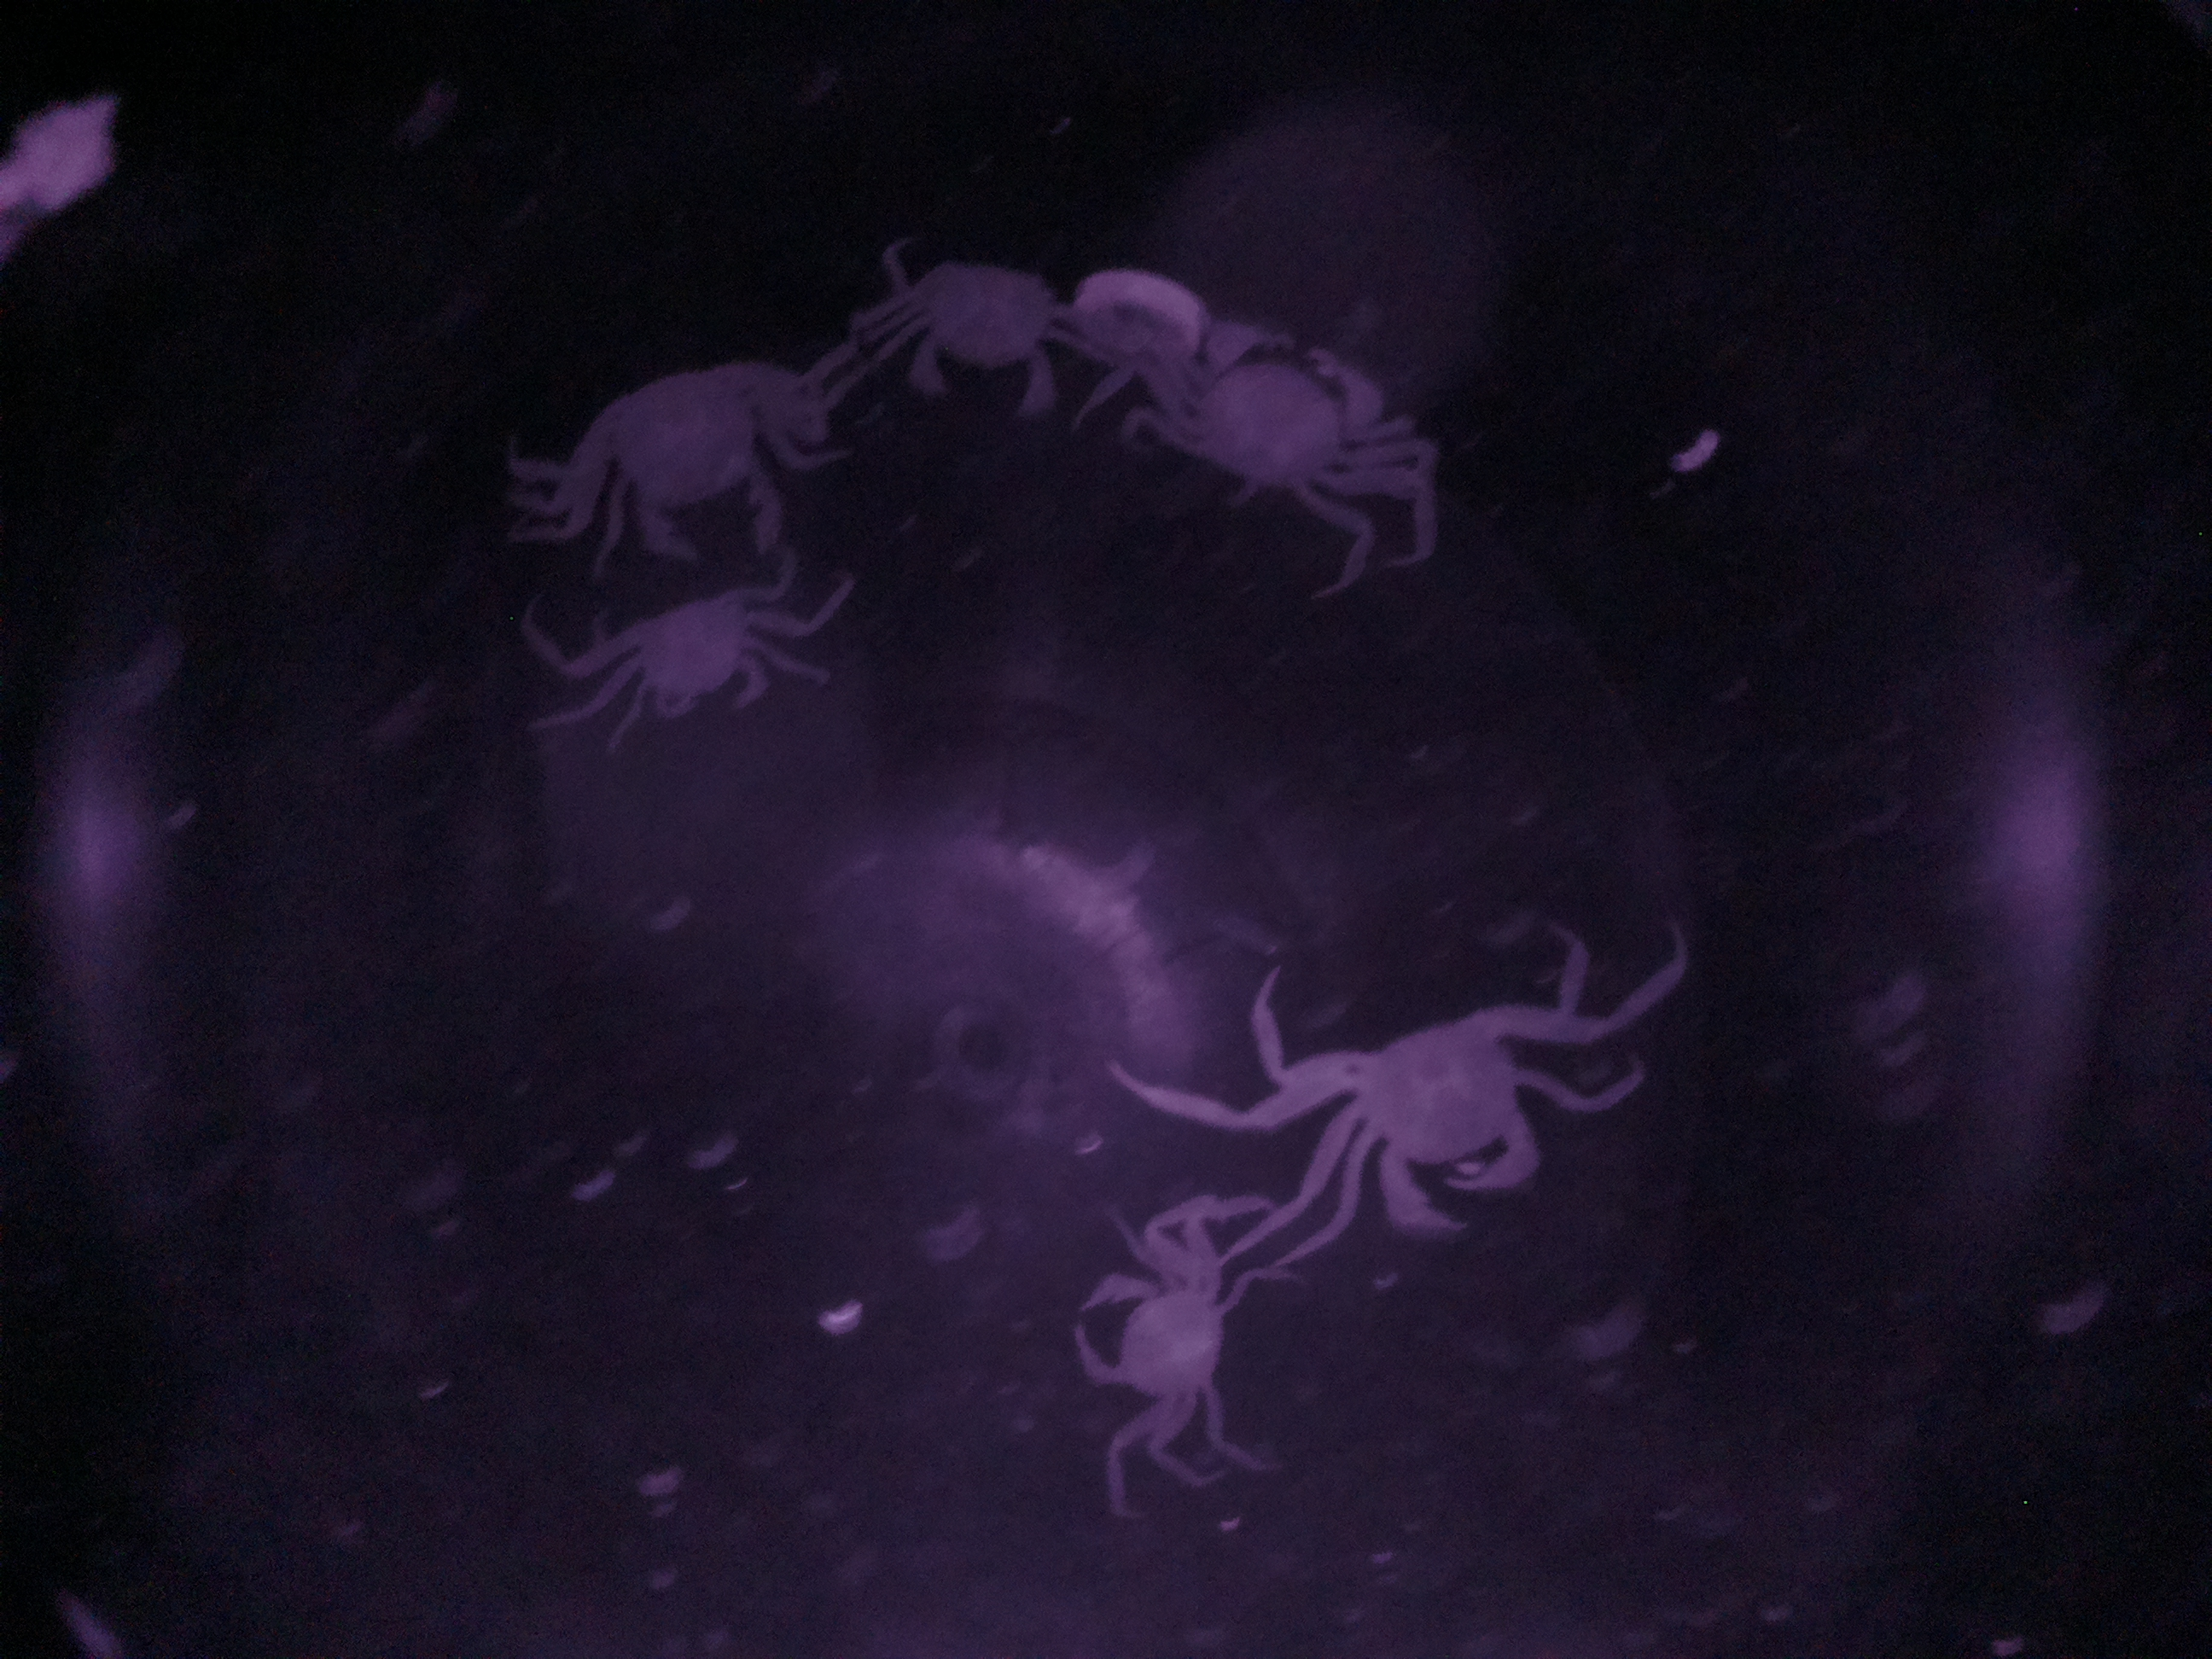Crab: (1270, 974, 1590, 1243), (1162, 314, 1404, 540), (578, 347, 826, 563), (1075, 1251, 1256, 1434), (900, 253, 1080, 436), (592, 584, 805, 735)
